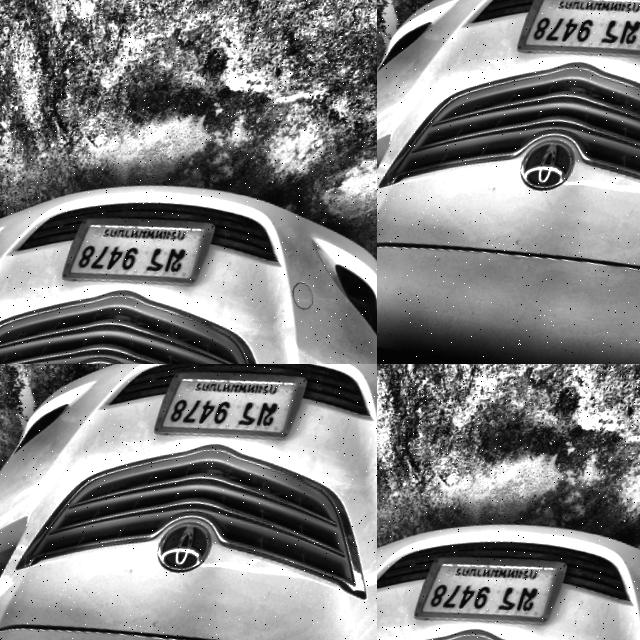license-plate: (413, 532, 578, 640), (327, 629, 351, 640)
